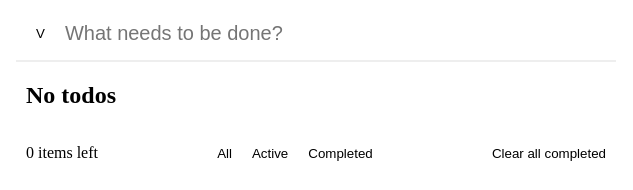
Test: Todos Component › Should remove completed todos when click clear all completed button
Type "Todo 1" into the field with placeholder "What needs to be done?".
click(330, 34); type("Todo 1")  # box [55,17,606,50]
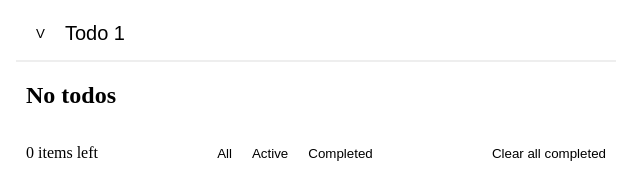
Click the button "V".
click(40, 34)  # box [26,17,55,50]
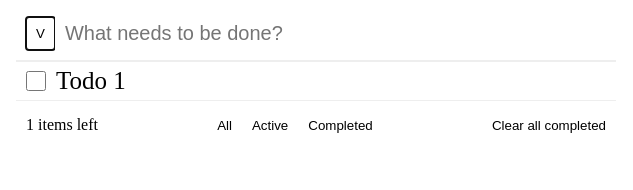
Type "Todo 2" into the field with placeholder "What needs to be done?".
click(330, 34); type("Todo 2")  # box [55,17,606,50]
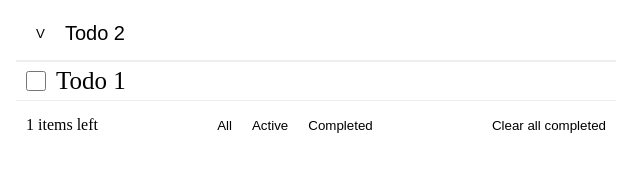
Click the button "V".
click(40, 34)  # box [26,17,55,50]
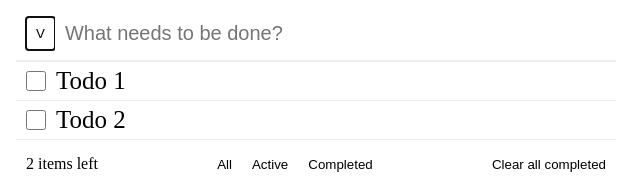
Click the checkbox next to "Todo 1".
click(36, 81)  # box [26,67,46,95]
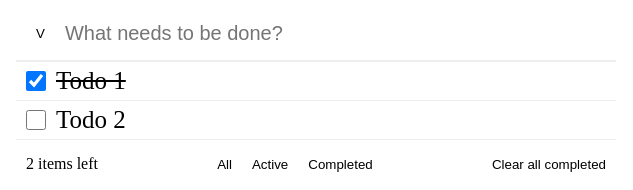
Click the button "Clear all completed".
click(549, 164)  # box [492,155,606,173]
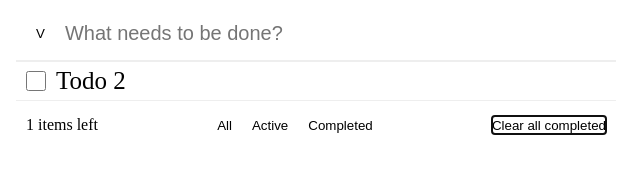
Result: the text "Todo 2" is shown at [56,67,126,95]
Result: the text "Todo 1" is gone
